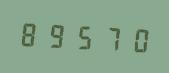eight: (18, 16, 43, 50)
five: (70, 19, 95, 53)
nine: (44, 17, 69, 52)
seven: (96, 20, 121, 54)
zero: (122, 22, 147, 56)
